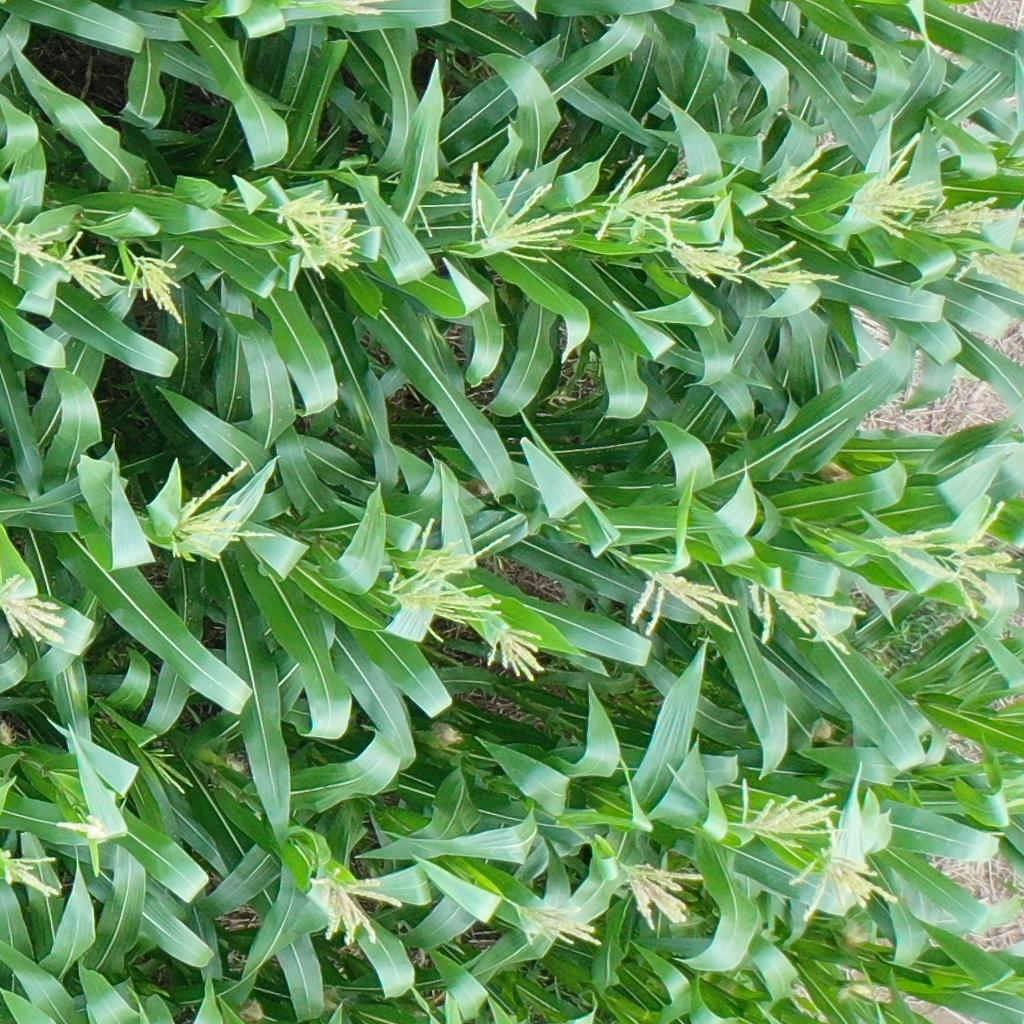Tassel: (870, 500, 1020, 620), (381, 533, 514, 645), (465, 159, 597, 268), (161, 461, 280, 566), (788, 819, 898, 920), (846, 129, 944, 239), (598, 152, 720, 239), (746, 578, 868, 654), (268, 184, 365, 275), (625, 563, 739, 638), (734, 775, 845, 852), (307, 869, 403, 946), (385, 168, 470, 238), (745, 240, 842, 298), (623, 863, 706, 929), (56, 229, 128, 302), (1, 572, 71, 647), (128, 244, 190, 328), (398, 519, 480, 577), (759, 139, 825, 211), (512, 900, 605, 950), (665, 237, 745, 291), (1, 220, 64, 285), (915, 197, 1007, 239), (483, 626, 552, 682), (953, 242, 1024, 294), (1, 847, 62, 900), (274, 1, 385, 20), (54, 806, 110, 843)
